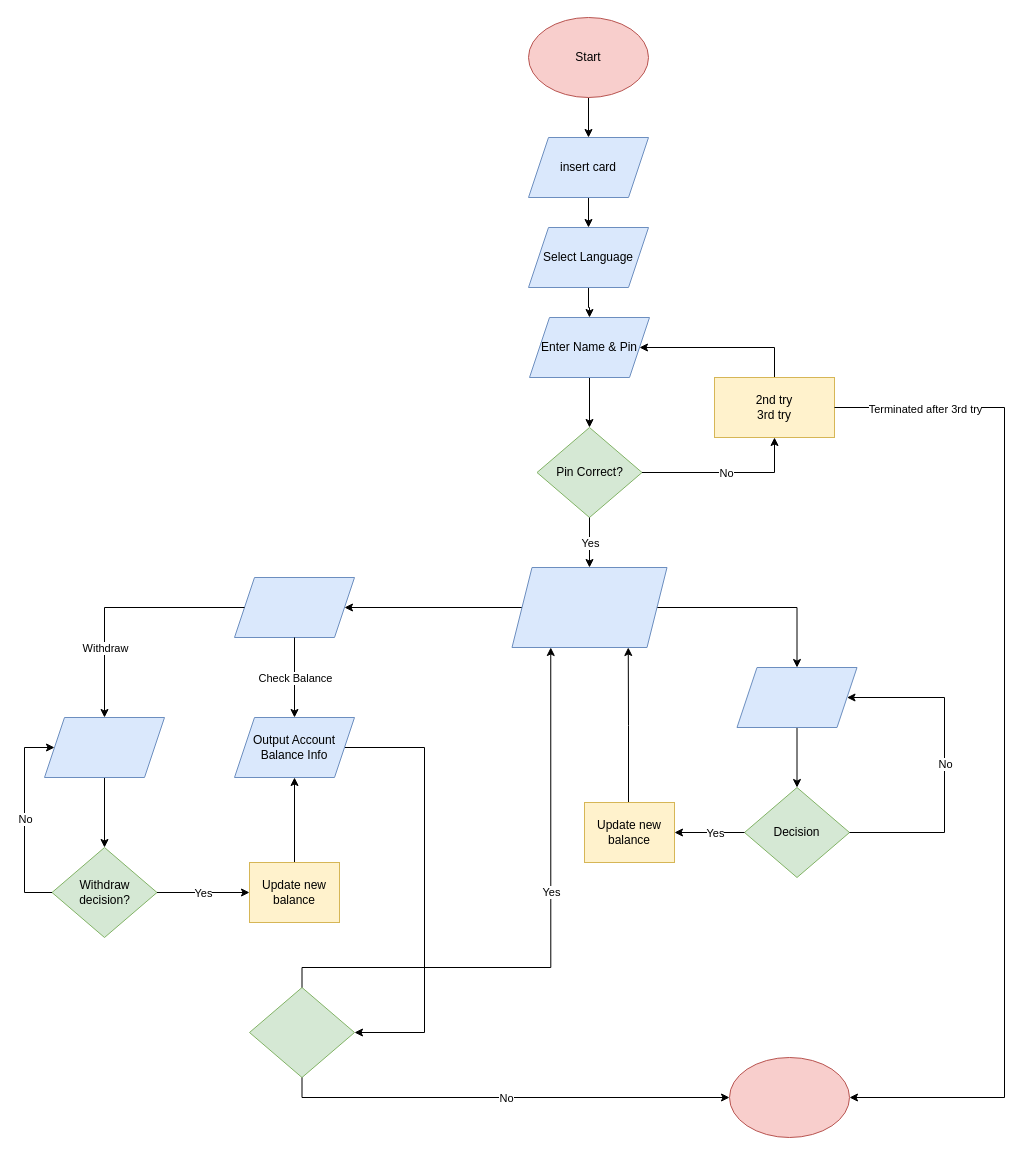
Image size: 1030x1155. Some labels were removed from this diagram. Each missing label, with the centre of its shape:
Check Balance Enquiry or Withdraw cash: the point at 294,607
Choose Checking or Deposit: the point at 589,607
Desposit Money: the point at 796,697
End: the point at 789,1097
Enter Amount to Withdraw: the point at 104,747
Want Another Transaction?: the point at 301,1032
